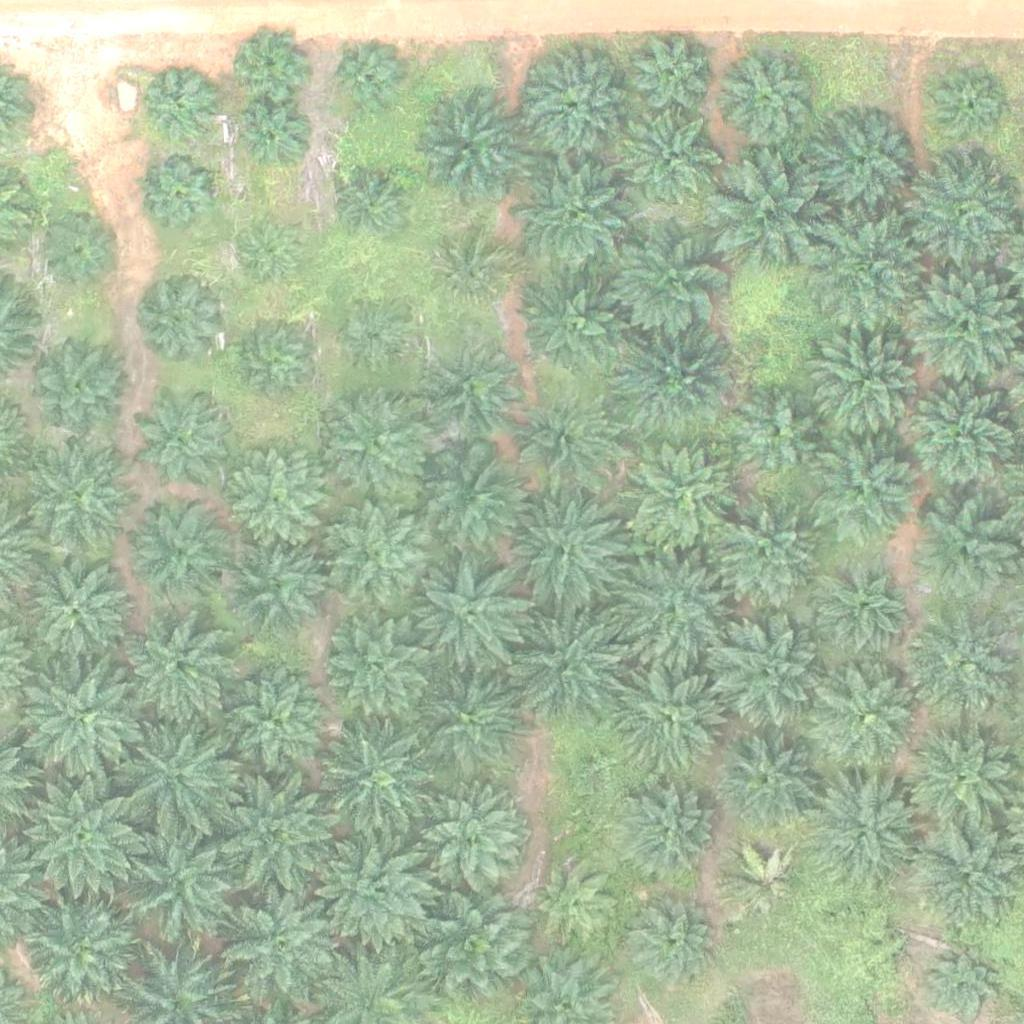Kelapa_Sawit: (405, 87, 530, 213), (407, 553, 532, 679), (512, 148, 637, 274), (607, 218, 732, 344), (704, 151, 829, 277), (807, 210, 932, 336), (405, 775, 530, 901), (410, 877, 535, 1003), (309, 715, 434, 841), (306, 824, 431, 950), (207, 658, 332, 784), (212, 768, 337, 894), (212, 878, 337, 1004), (119, 608, 244, 734), (116, 716, 241, 842), (114, 817, 239, 943), (22, 651, 147, 777), (20, 771, 145, 897), (19, 885, 144, 1011), (24, 438, 137, 552), (813, 328, 926, 442), (905, 613, 1018, 727), (20, 551, 133, 664), (415, 444, 528, 557), (511, 498, 624, 611), (811, 433, 924, 546), (804, 551, 917, 664), (905, 499, 1018, 612), (905, 722, 1018, 835), (909, 823, 1022, 936), (613, 658, 726, 771), (609, 771, 722, 884), (507, 610, 620, 723), (908, 266, 1020, 380), (321, 384, 433, 497), (323, 499, 435, 612), (521, 270, 633, 383), (508, 386, 620, 499), (620, 323, 732, 436), (625, 442, 737, 555), (618, 552, 730, 665), (706, 497, 818, 610), (903, 151, 1015, 264), (810, 662, 922, 775), (809, 776, 921, 889), (710, 613, 822, 726), (412, 663, 524, 776), (321, 615, 433, 728), (522, 51, 622, 152), (620, 891, 720, 992), (525, 851, 625, 952), (31, 341, 131, 441), (133, 390, 233, 490), (135, 505, 235, 605), (226, 451, 326, 551), (225, 539, 325, 639), (621, 108, 721, 208), (811, 114, 911, 214), (718, 840, 806, 929), (138, 276, 226, 364), (233, 319, 321, 407), (735, 389, 823, 477), (725, 741, 813, 829), (430, 342, 517, 430), (627, 29, 714, 117), (721, 55, 808, 143), (932, 72, 1007, 148), (47, 217, 122, 293), (436, 235, 511, 310), (144, 68, 219, 143), (144, 160, 219, 235), (228, 26, 303, 101), (232, 104, 307, 179), (330, 41, 405, 116), (333, 171, 408, 246), (339, 301, 414, 376), (238, 223, 300, 286)
